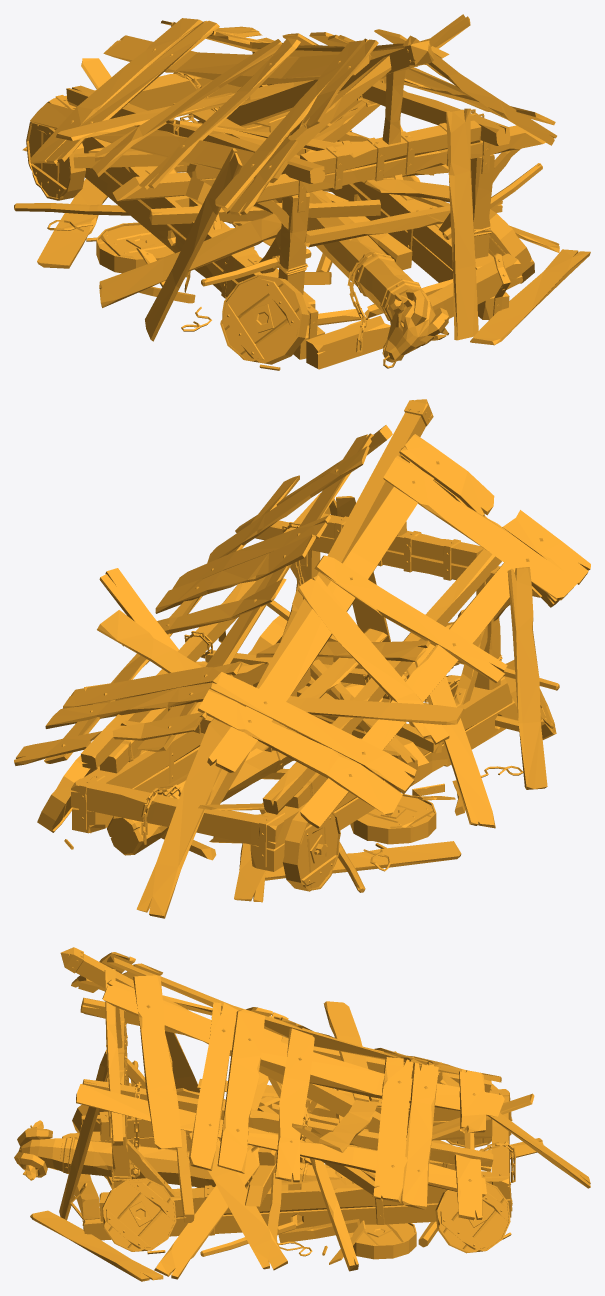
The model's file is SM_Ram_Broken.fbx.
The picture shows the model from 3 angles, top to bottom: view 1: azimuth 30°, elevation 25°; view 2: azimuth 150°, elevation 25°; view 3: azimuth 270°, elevation 25°; orthographic projection. The views are drawn at different scales.
Parts seen in each view (by area): view 1: ram-broken-frame, ram-broken-log-a; view 2: ram-broken-frame, ram-broken-log-a; view 3: ram-broken-frame, ram-broken-log-a.
Part boxes in pixels (box(x1,y1,x2,y2)): ram-broken-frame: box(14, 14, 590, 370); ram-broken-log-a: box(216, 107, 448, 368); ram-broken-frame: box(14, 399, 590, 918); ram-broken-log-a: box(107, 609, 464, 855); ram-broken-frame: box(30, 947, 590, 1281); ram-broken-log-a: box(14, 1120, 347, 1187).
Bounding box in the file's own units: 4.22 × 2.9 × 5.96.
